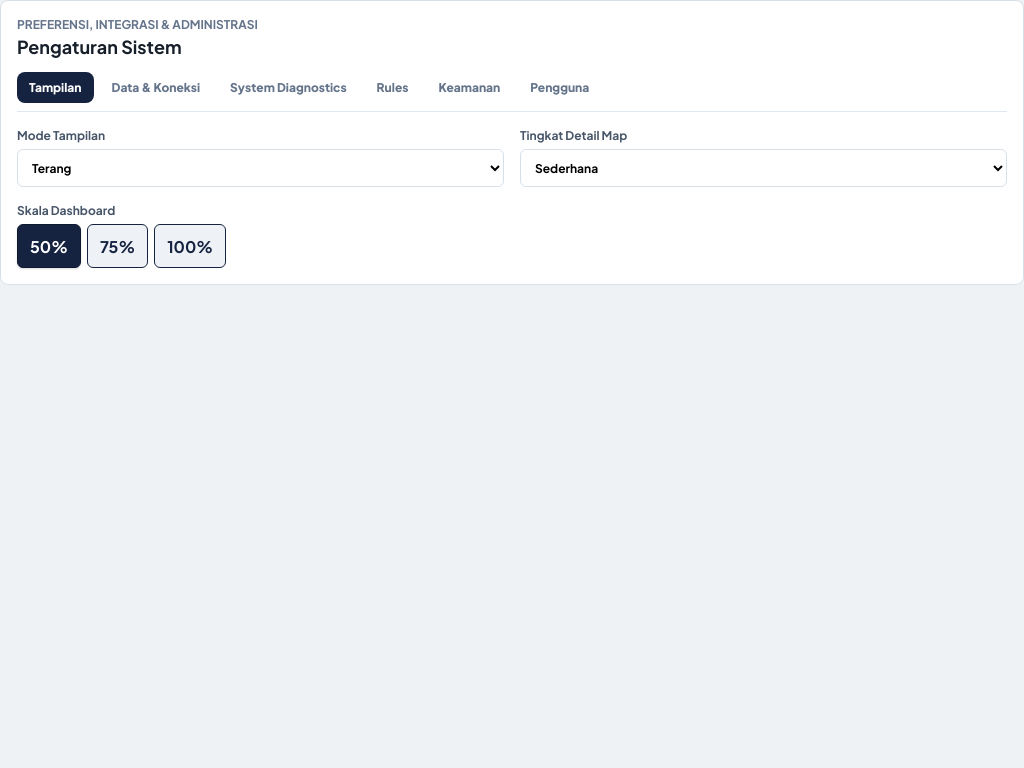
SettingsPanel › allows an admin to change an existing user role separately from password
Step 1. Click the tab "Pengguna" → (560, 88), box x1=518 y1=72 x2=601 y2=103
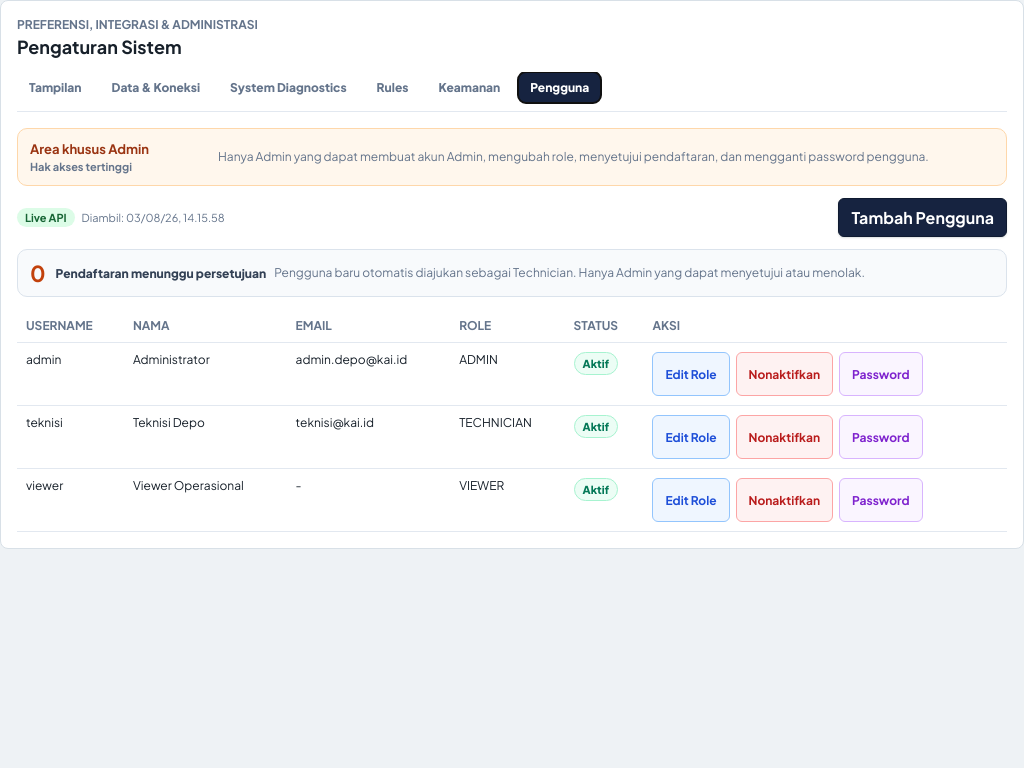
Now the row named "Edit role teknisi" is shown, box x1=17 y1=406 x2=1007 y2=468
Now the text "TECHNICIAN" is shown, box x1=450 y1=406 x2=565 y2=468
Step 2. Click the button with aria-label "Edit role teknisi" → (691, 437), box x1=652 y1=415 x2=730 y2=459
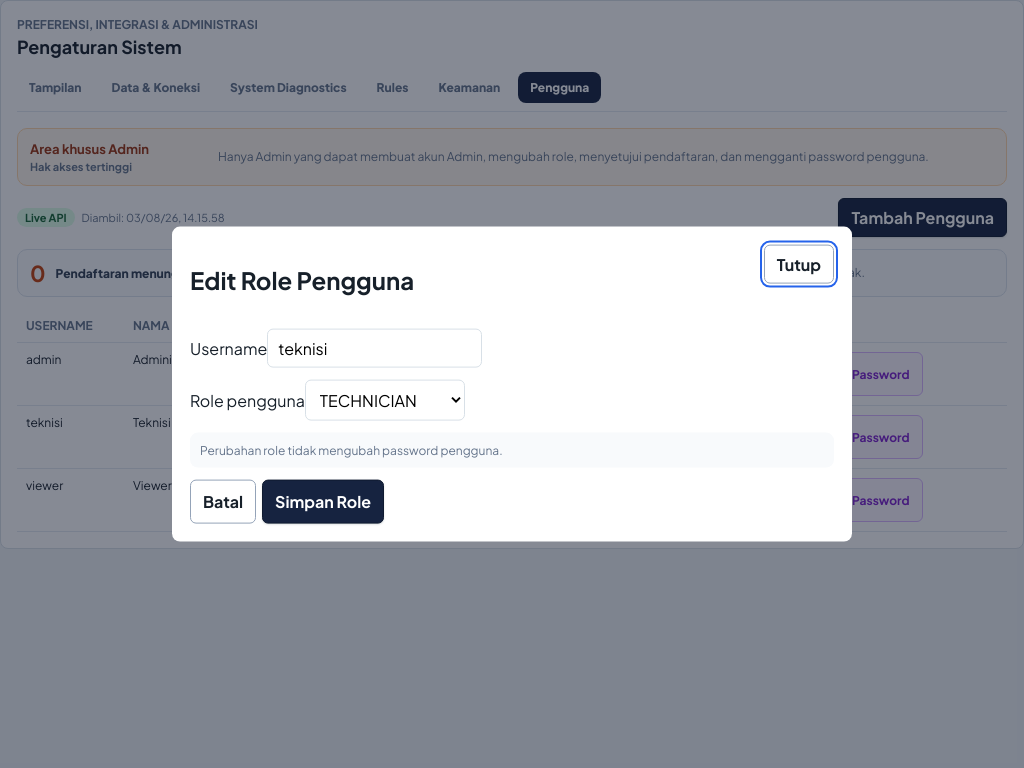
Now the text "Perubahan role tidak mengubah password pengguna." is shown, box x1=190 y1=432 x2=834 y2=467
Step 3. Select "ADMIN" in the dropdown labelled "Role pengguna" → (385, 400), box x1=305 y1=379 x2=465 y2=420
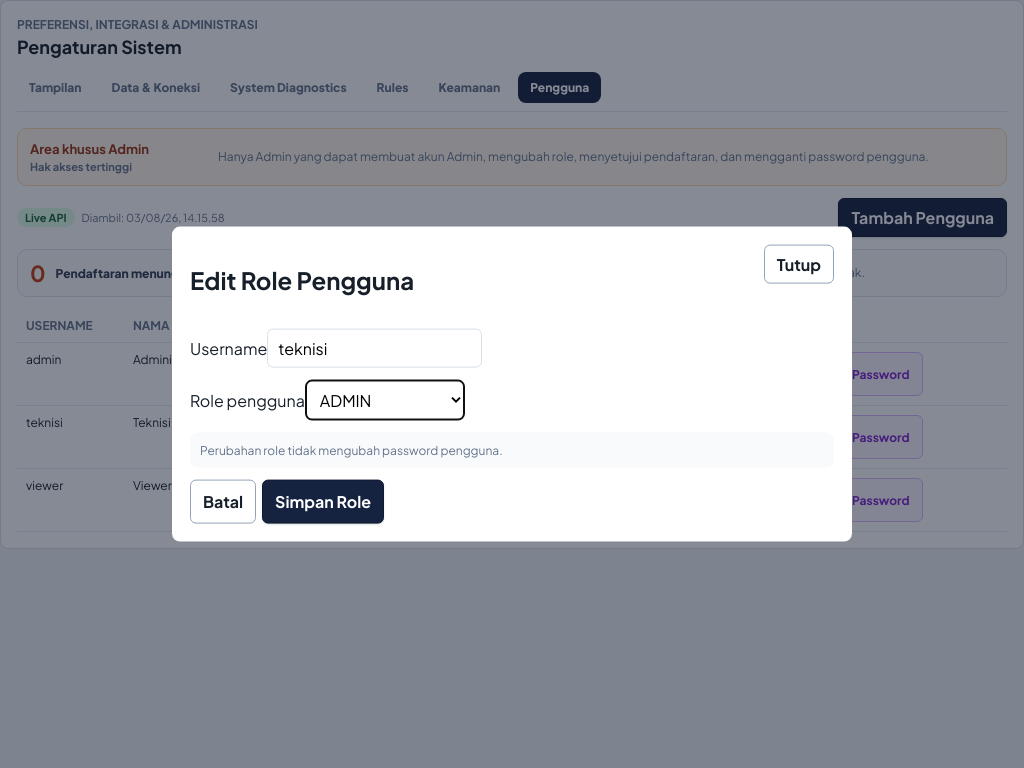
Step 4. Click the button "Simpan Role" → (323, 501), box x1=262 y1=479 x2=384 y2=523
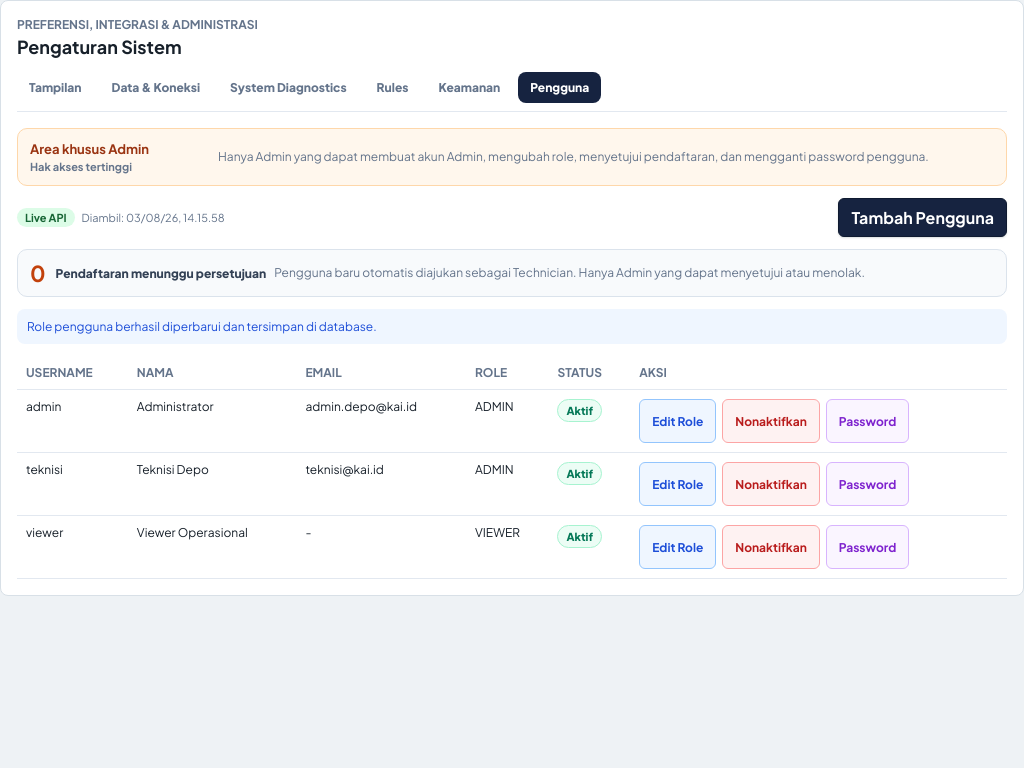
Now the text "ADMIN" in the row of "Teknisi Depo" is shown, box x1=475 y1=462 x2=514 y2=477
